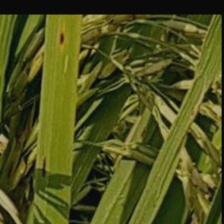Bacterial_Leaf_Blight: (55, 28, 67, 54), (41, 152, 51, 181)
